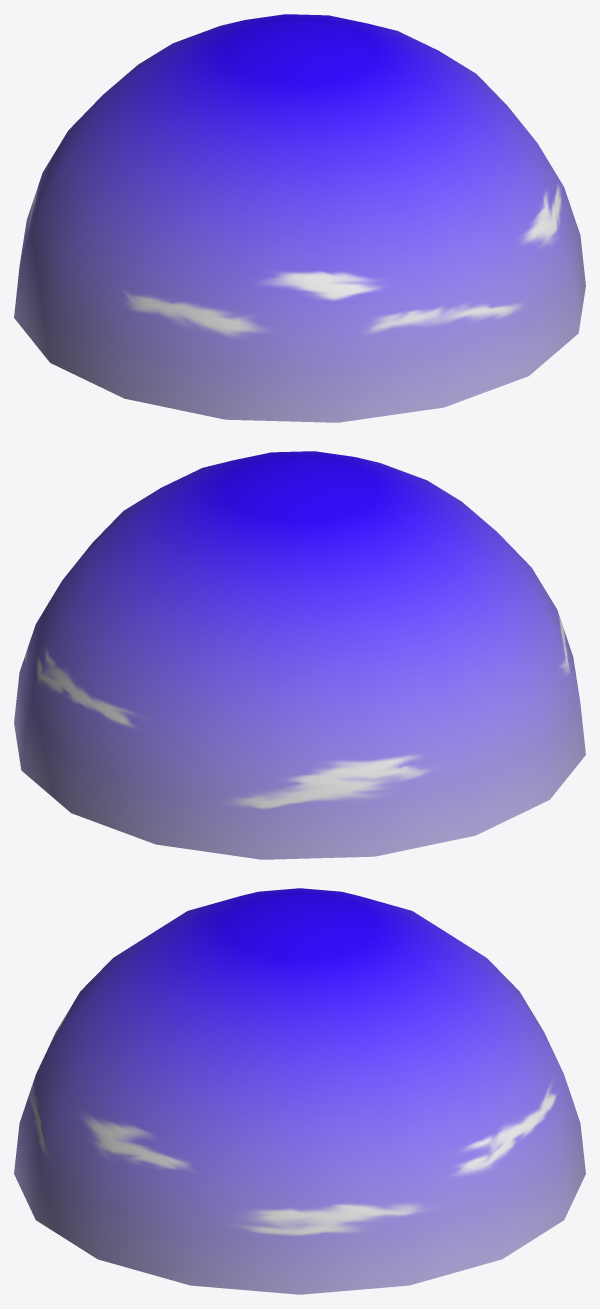
Rendered from Skydome.obj.
3 renders of one model, top to bottom at view 1: azimuth 30°, elevation 25°; view 2: azimuth 150°, elevation 25°; view 3: azimuth 270°, elevation 25°, orthographic.
Parts seen in each view (by area): view 1: Sphere; view 2: Sphere; view 3: Sphere.
Part boxes in pixels (x1,y1,x2,y2): Sphere: (14, 14, 585, 422); Sphere: (14, 451, 585, 859); Sphere: (14, 888, 585, 1294).
Size of the model in its own units: 20 by 10 by 20.
Materials: 1 (1 with a texture image).
